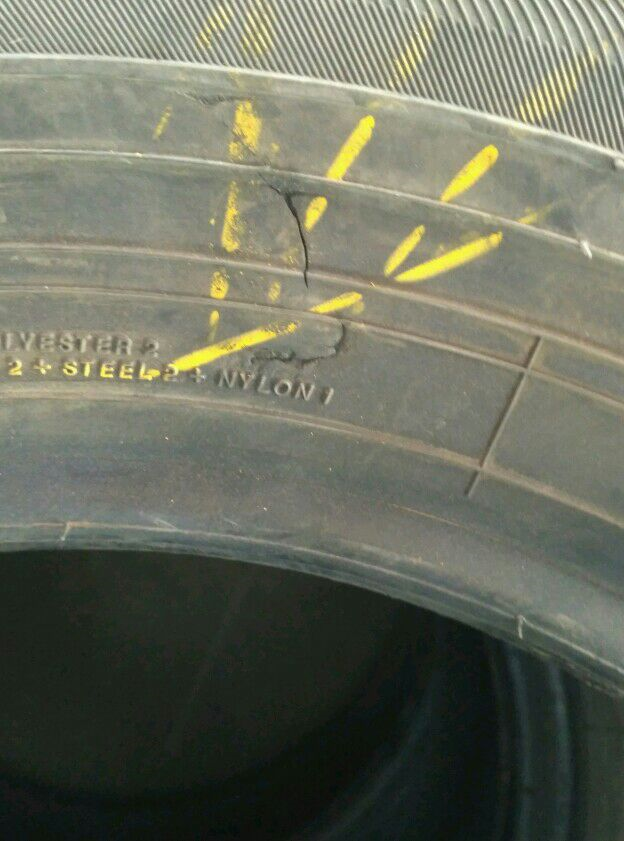cut: (246, 313, 358, 371), (275, 193, 316, 295)
